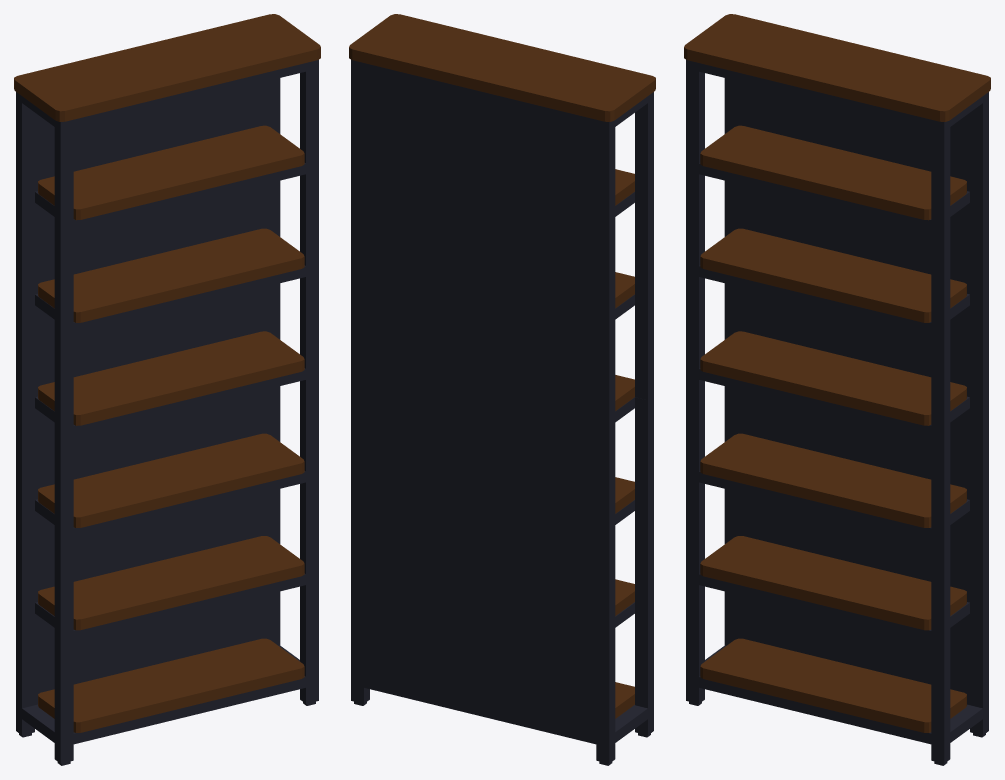
File: shelfcabinet_enclosed.glb
3 renders of one model, left to right at view 1: azimuth 30°, elevation 25°; view 2: azimuth 150°, elevation 25°; view 3: azimuth 330°, elevation 25°, orthographic.
Visible parts, largest first — view 1: BigFrame.004; view 2: BigFrame.004; view 3: BigFrame.004.
Part boxes in pixels (bbox=[...]): BigFrame.004: bbox=[14, 14, 320, 765]; BigFrame.004: bbox=[349, 14, 655, 765]; BigFrame.004: bbox=[684, 14, 990, 765].
Bounding box in the file's own units: 0.8221 × 1.95 × 0.2576.
